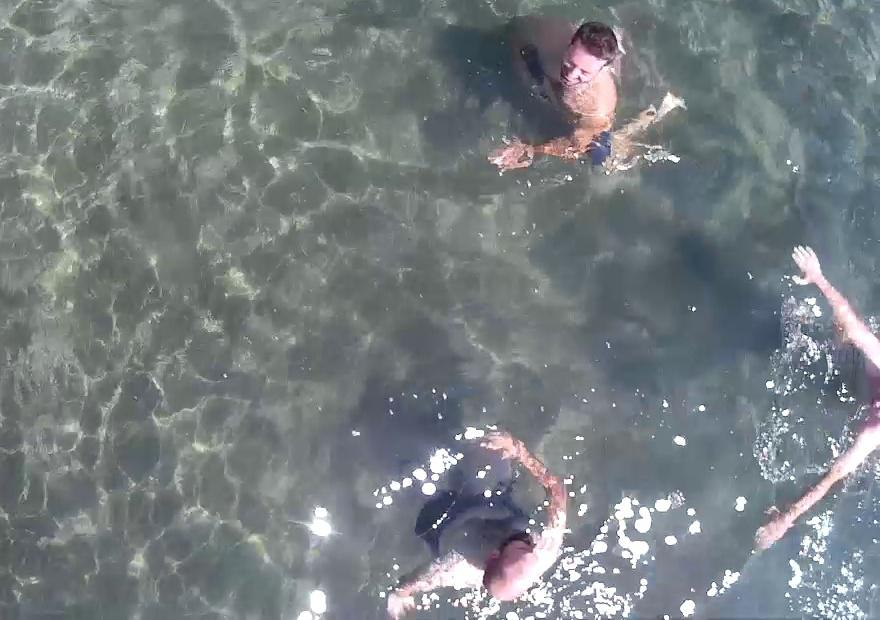swimmer: (481, 0, 708, 208), (0, 1, 1, 1)
